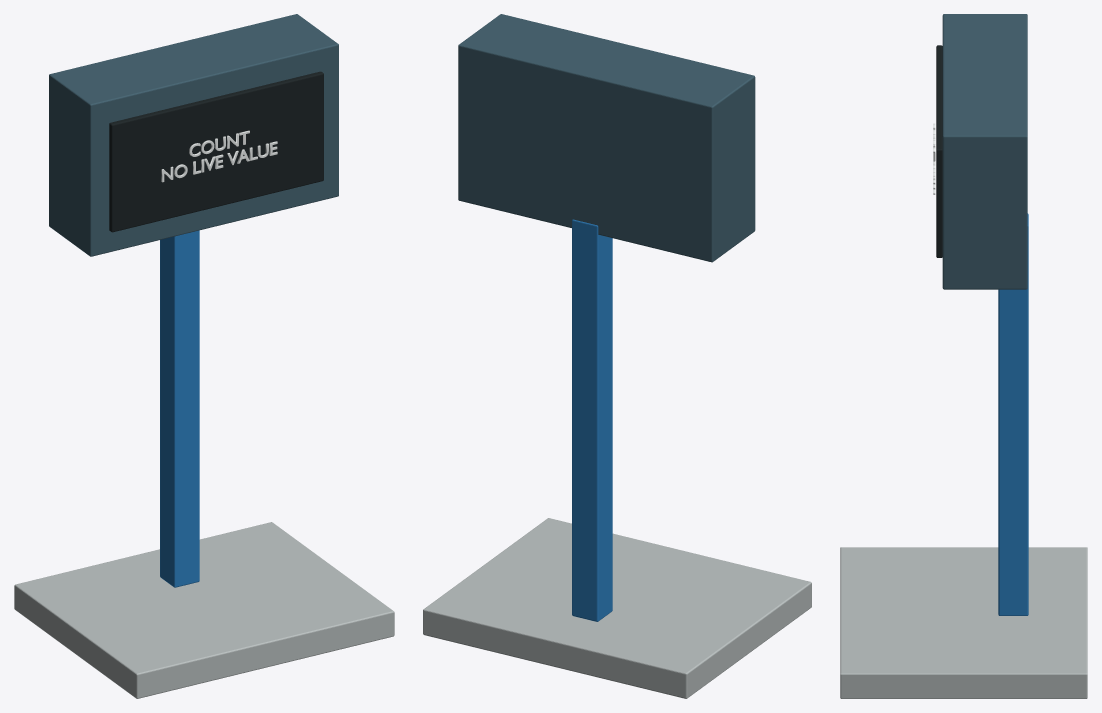
The model's file is occupancy_counter_display.glb.
3 renders of one model, left to right at view 1: azimuth 30°, elevation 25°; view 2: azimuth 150°, elevation 25°; view 3: azimuth 270°, elevation 25°, orthographic. The views are drawn at different scales.
Visible parts, largest first — view 1: STATIC_READOUT_base, STATIC_READOUT_housing, STATIC_READOUT_screen, STATIC_READOUT_mast, STATIC_READOUT_static_legend; view 2: STATIC_READOUT_housing, STATIC_READOUT_base, STATIC_READOUT_mast; view 3: STATIC_READOUT_base, STATIC_READOUT_housing, STATIC_READOUT_mast, STATIC_READOUT_screen.
Boxes of the visible parts, x1,y1,x2,y2 form: STATIC_READOUT_base: [14, 522, 394, 698]; STATIC_READOUT_housing: [49, 14, 338, 256]; STATIC_READOUT_screen: [109, 71, 323, 232]; STATIC_READOUT_mast: [160, 230, 199, 587]; STATIC_READOUT_static_legend: [161, 130, 277, 182]; STATIC_READOUT_housing: [458, 14, 755, 262]; STATIC_READOUT_base: [423, 518, 811, 698]; STATIC_READOUT_mast: [572, 219, 612, 621]; STATIC_READOUT_base: [840, 547, 1087, 698]; STATIC_READOUT_housing: [942, 14, 1027, 289]; STATIC_READOUT_mast: [998, 213, 1028, 615]; STATIC_READOUT_screen: [936, 45, 942, 257].
Size of the model in its own units: 0.85 by 1.75 by 0.7.
